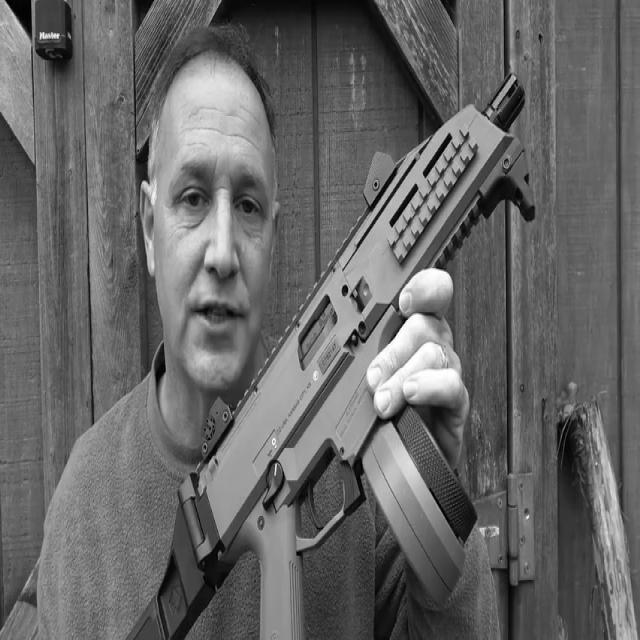Sub-machine-gun: (79, 0, 567, 640)
